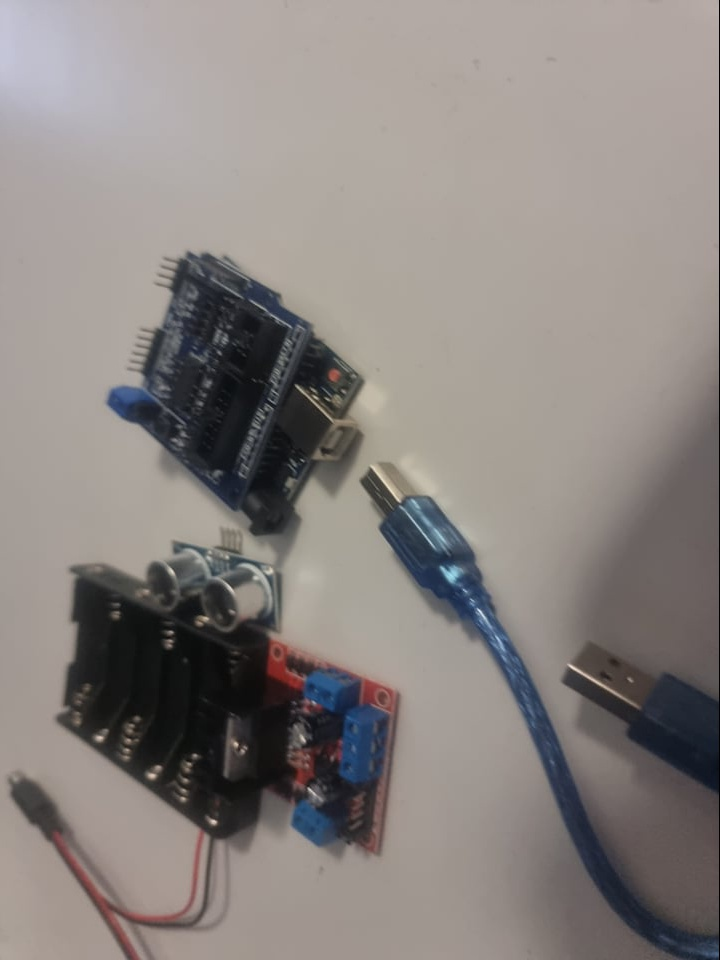5V EXPANSION: (110, 251, 296, 500)
BATTERY BOX: (51, 561, 251, 844)
MOTOR: (214, 645, 406, 856)
SENSOR: (144, 548, 283, 628)
UNO R3: (249, 349, 364, 544)
